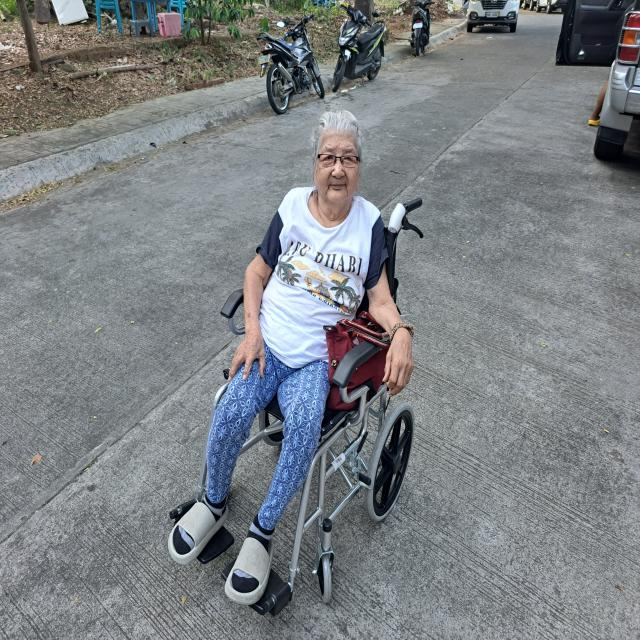wheelchairs: (165, 191, 430, 607)
